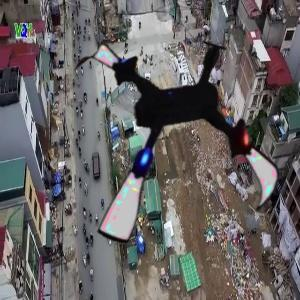drone: (49, 20, 293, 264)
